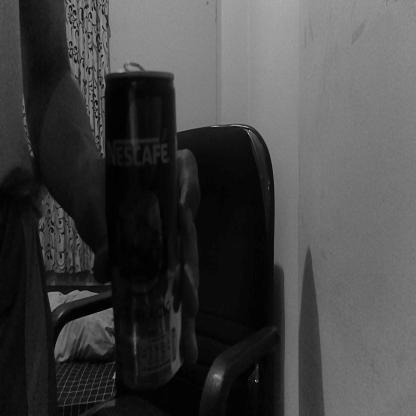alumunium_can: (105, 61, 185, 393)
